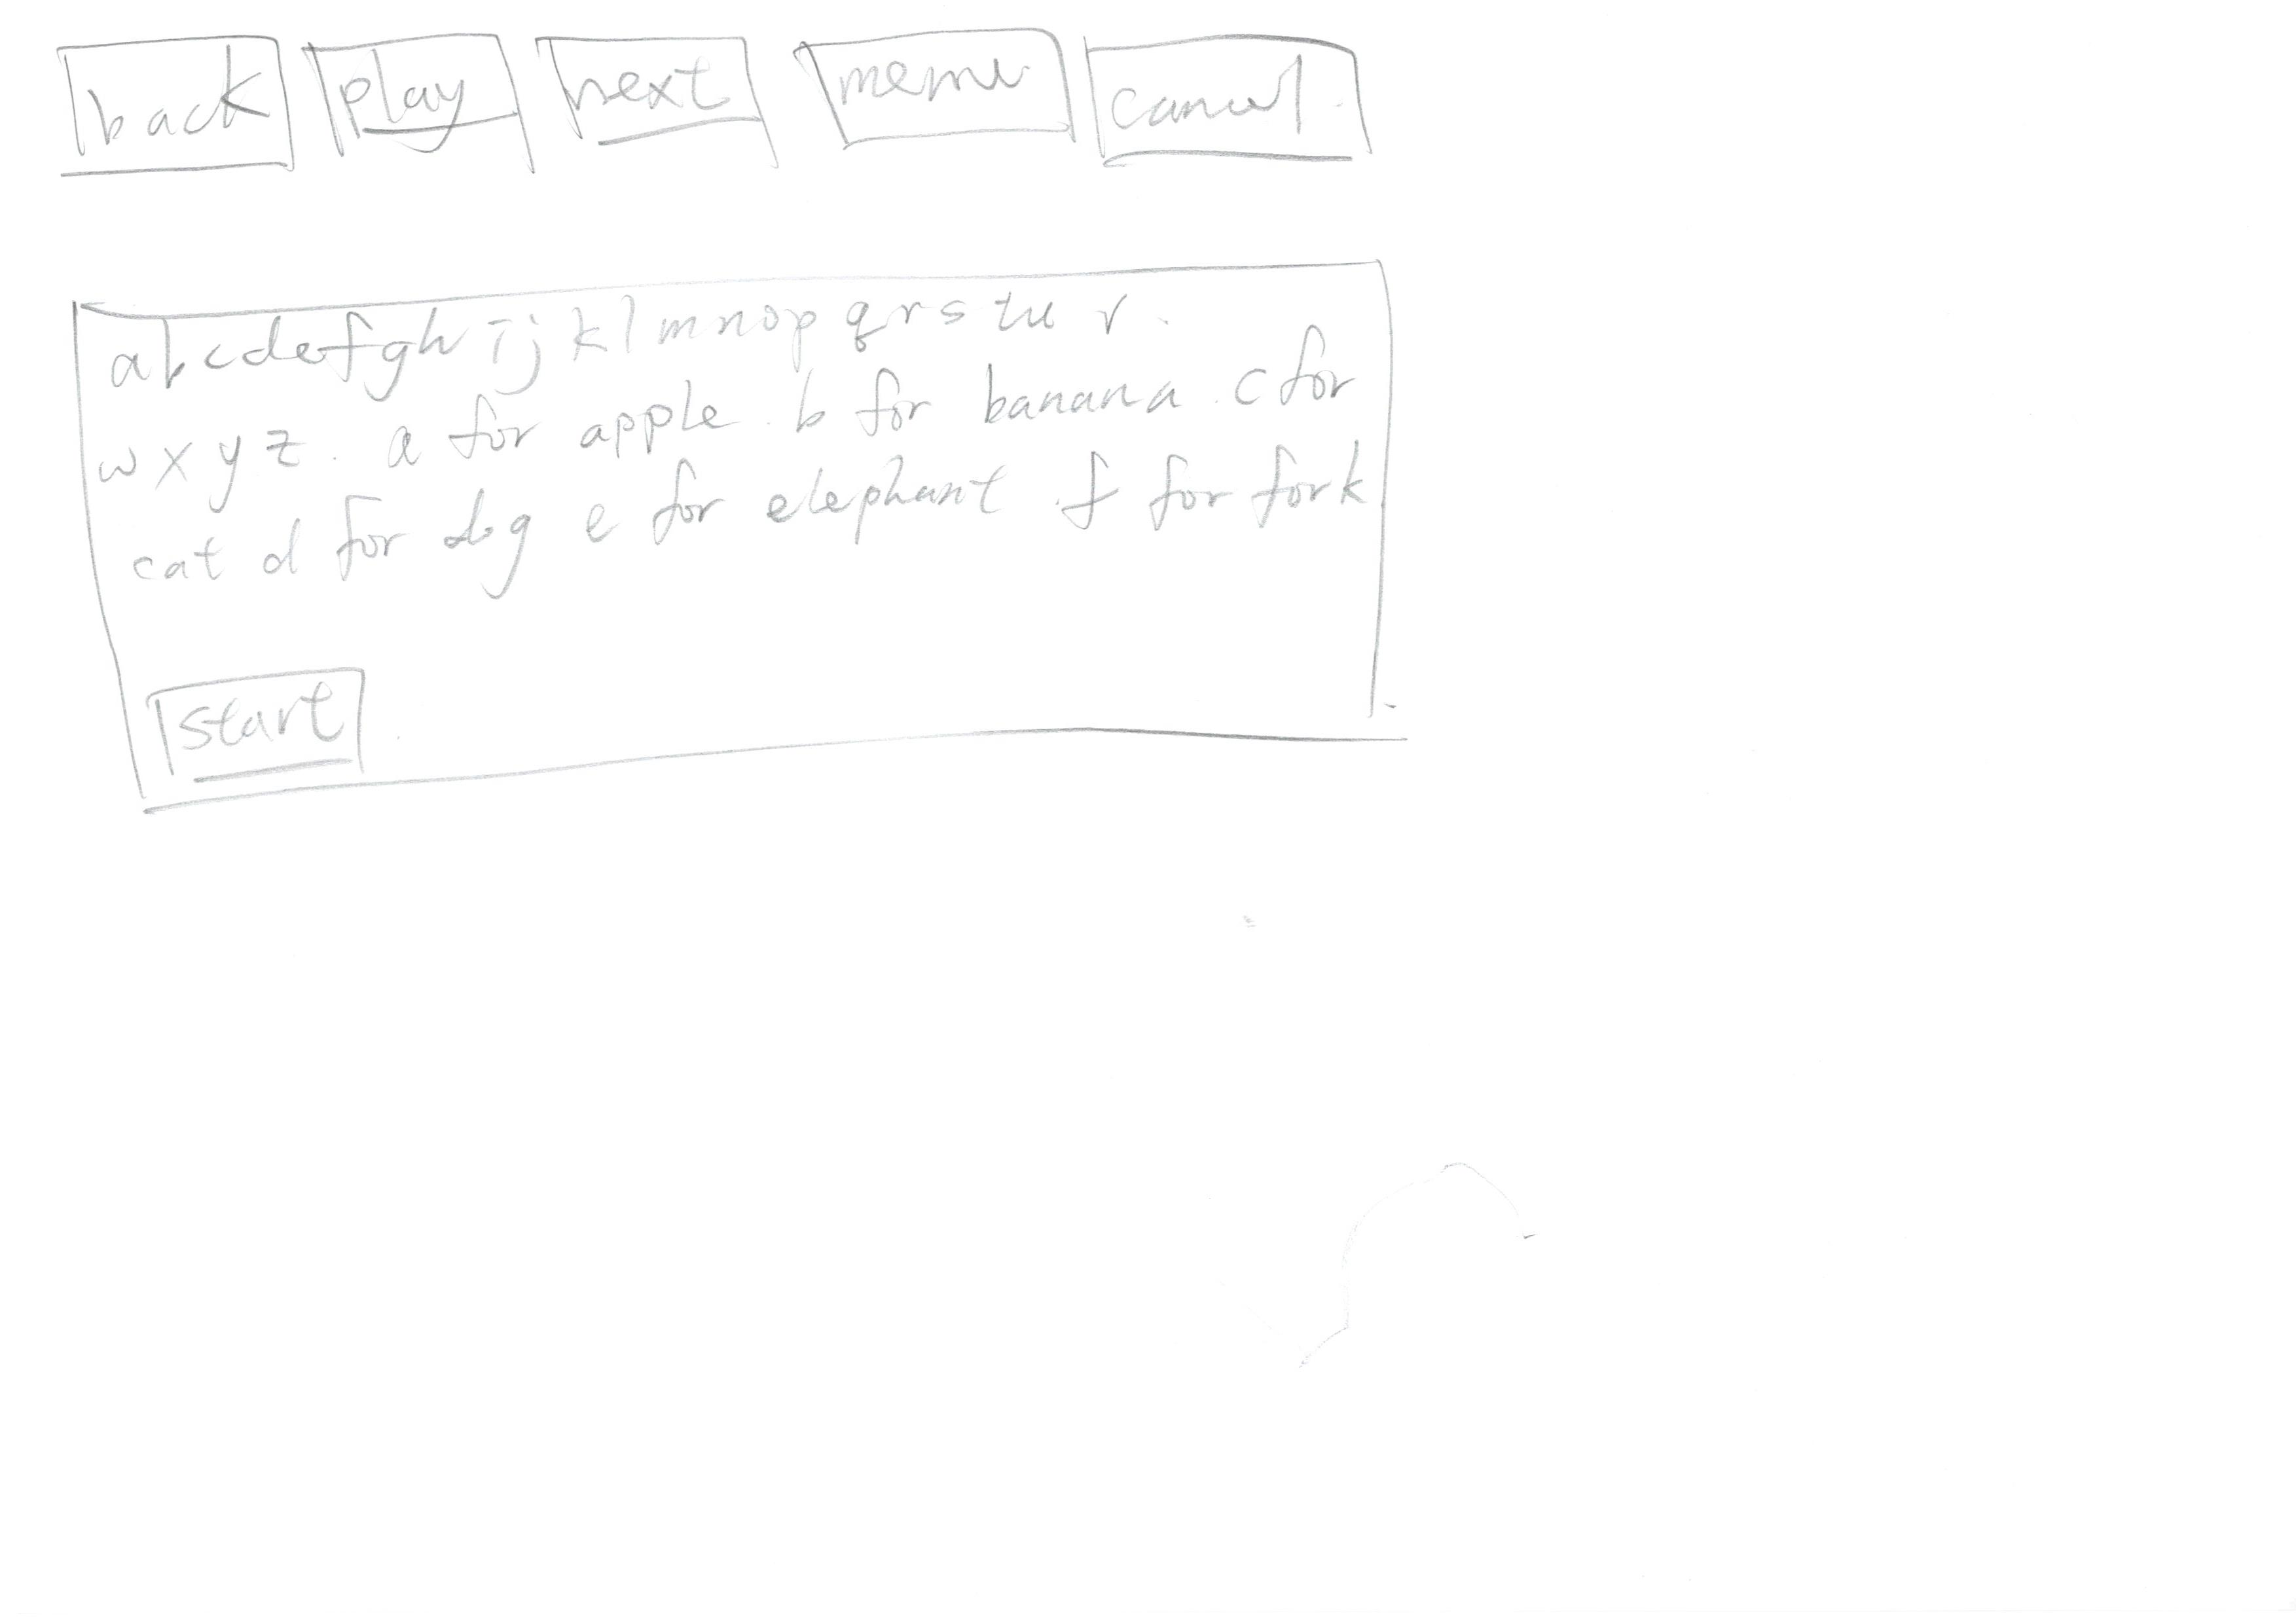back: (1074, 28, 1408, 188), (32, 25, 302, 204)
menu: (777, 9, 1090, 181)
next: (533, 7, 775, 185)
play: (301, 9, 549, 207)
row: (0, 223, 1762, 951), (0, 0, 1763, 221)
single: (42, 239, 1447, 837)
start: (134, 649, 381, 782)
text: (100, 306, 1334, 573)
